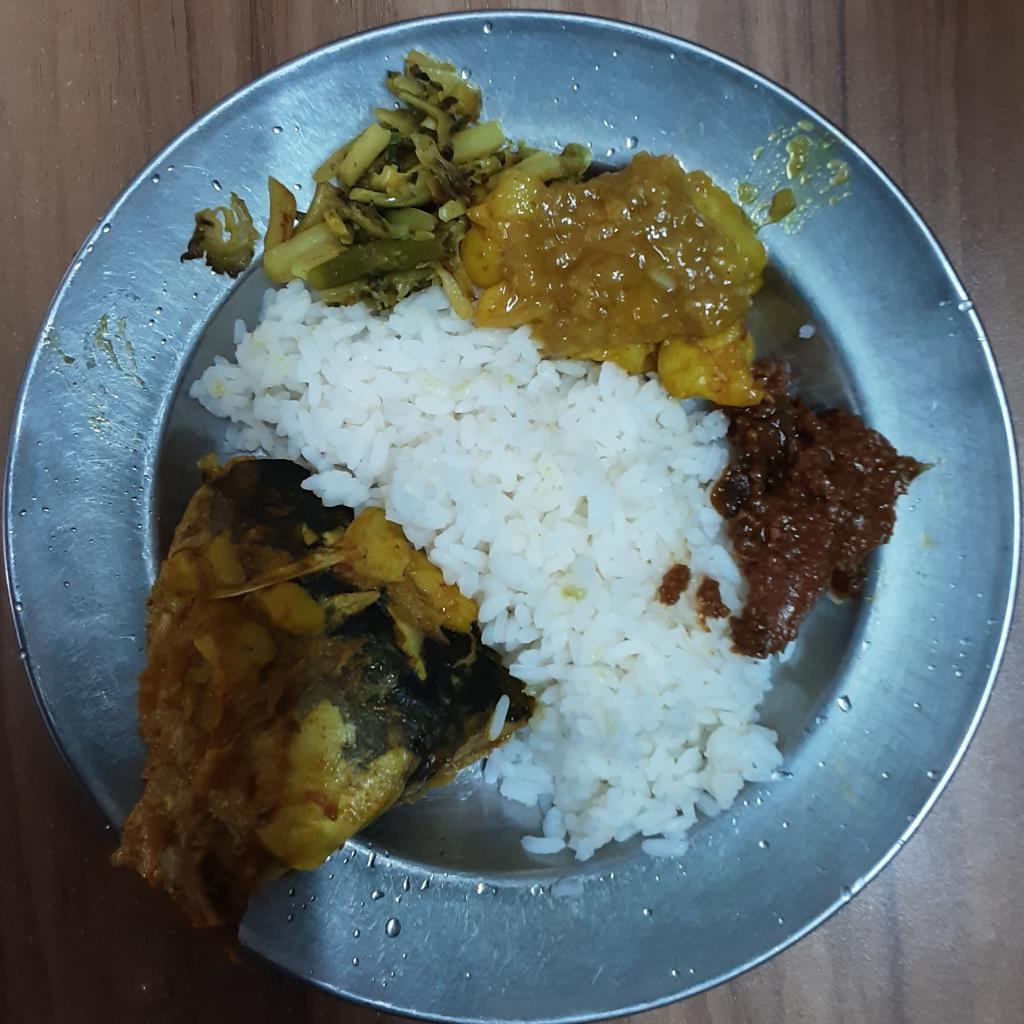achar: (713, 355, 926, 659)
fish: (110, 456, 533, 953)
korola-vaji: (198, 43, 519, 313)
potato: (459, 148, 762, 407)
rice: (173, 277, 784, 862)
